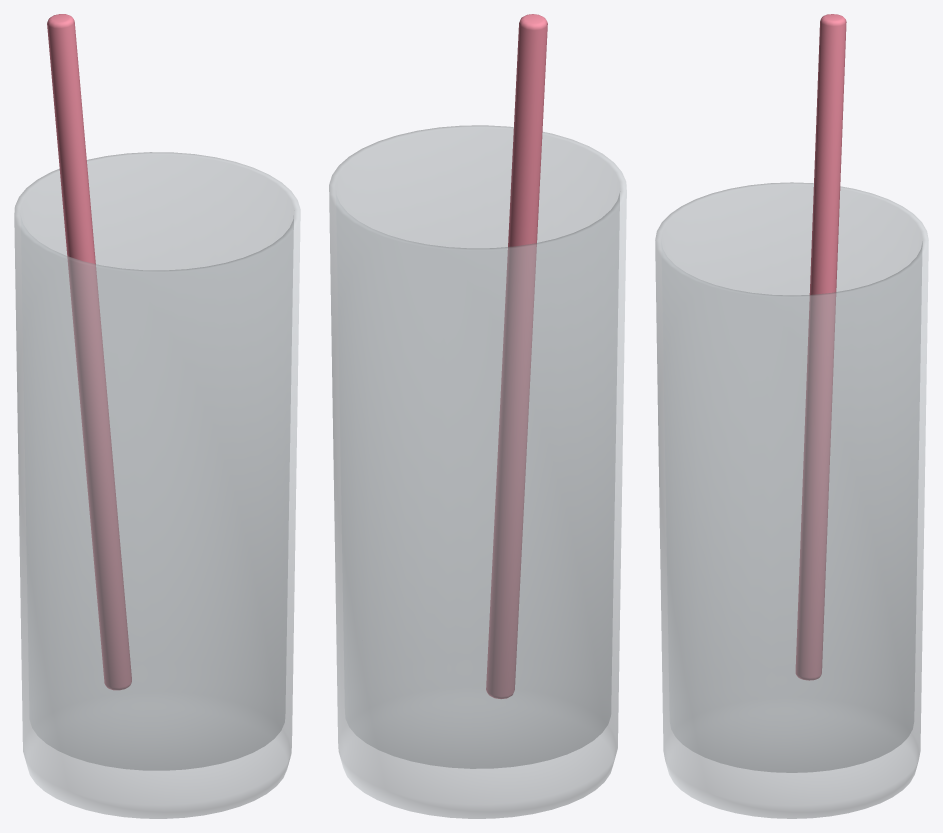
The model's file is used_glass_juice.glb.
3 views of the same model, side by side, from view 1: azimuth 30°, elevation 25°; view 2: azimuth 150°, elevation 25°; view 3: azimuth 270°, elevation 25° (orthographic). The views are drawn at different scales.
Visible parts, largest first — view 1: Used_glass_juice; view 2: Used_glass_juice; view 3: Used_glass_juice.
Boxes of the visible parts, left/top/right/bottom form: Used_glass_juice: left=14, top=14, right=300, bottom=818; Used_glass_juice: left=329, top=14, right=626, bottom=818; Used_glass_juice: left=655, top=14, right=928, bottom=818.
Bounding box in the file's own units: 0.066 × 0.1902 × 0.066.
